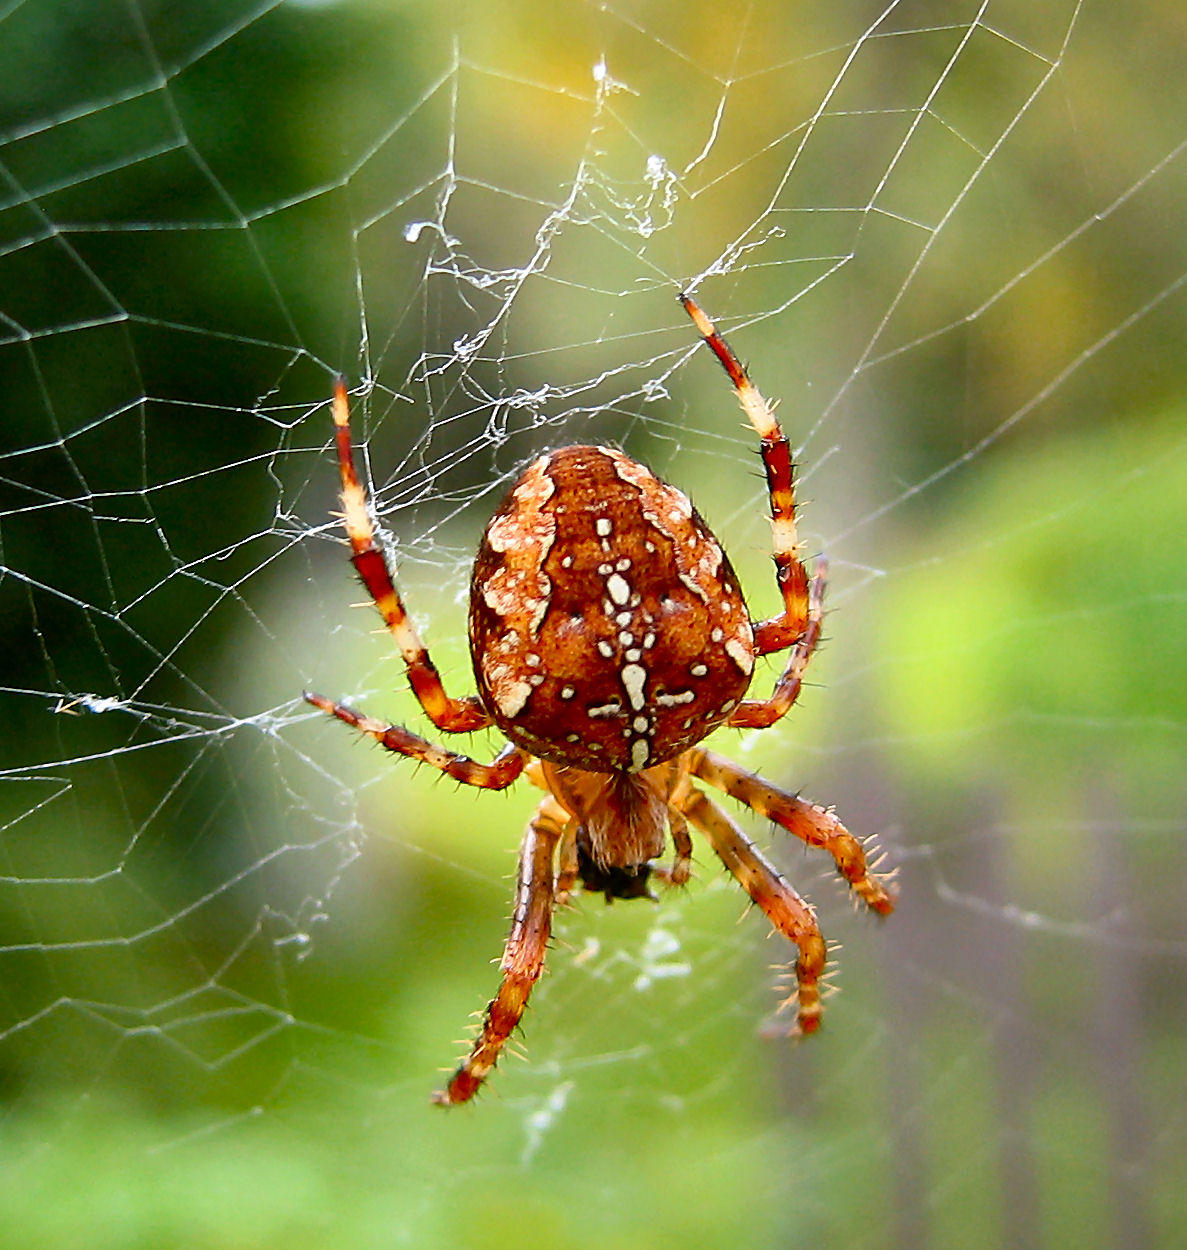spider: (252, 269, 925, 1146)
